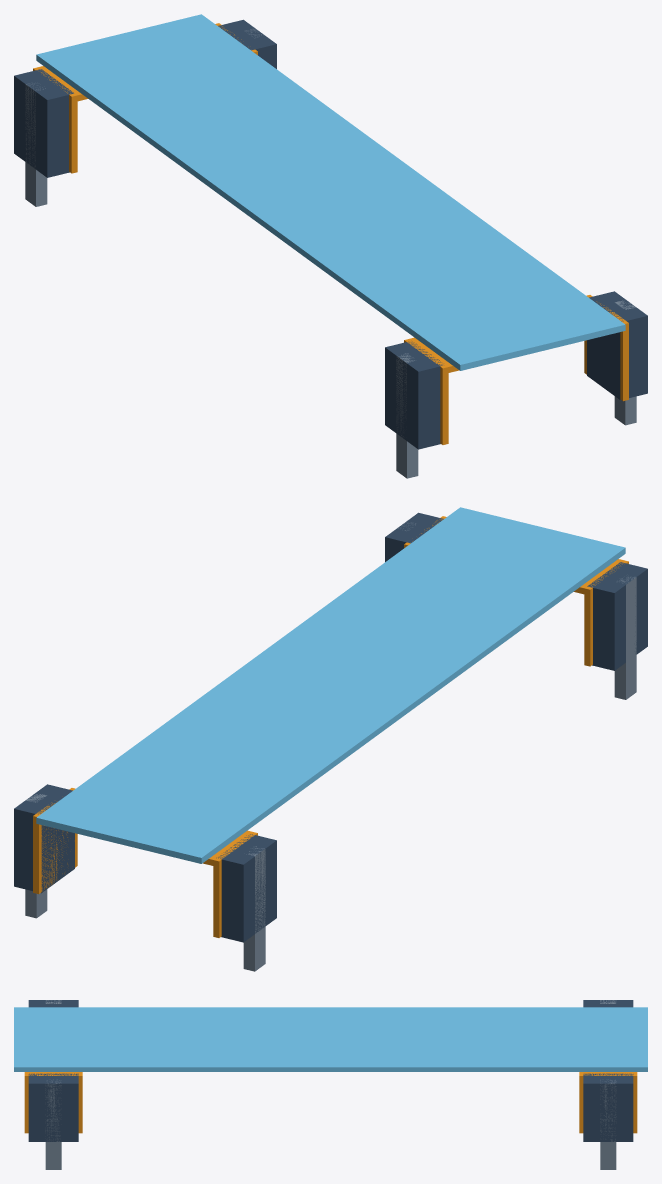
The model's file is HR-V0_receiver-guide-interface-review.glb.
The picture shows the model from 3 angles, top to bottom: view 1: azimuth 30°, elevation 25°; view 2: azimuth 150°, elevation 25°; view 3: azimuth 270°, elevation 25°; orthographic projection. The views are drawn at different scales.
Visible parts, largest first — view 1: R129-PLATEN-BLANK, TWA-01-20-CATALOG-ENVELOPE-1-1, TWA-01-20-CATALOG-ENVELOPE-1-2, TWA-01-20-CATALOG-ENVELOPE-2-1, TS-01-20-120-CATALOG-ENVELOPE-1-1, TS-01-20-120-CATALOG-ENVELOPE-1-2, TWA-01-20-CATALOG-ENVELOPE-2-2, FAB-REC-004-GUIDE-ANGLE-ENVELOPE-1-1, FAB-REC-004-GUIDE-ANGLE-ENVELOPE-1-2, FAB-REC-004-GUIDE-ANGLE-ENVELOPE-2-1, TS-01-20-120-CATALOG-ENVELOPE-2-1; view 2: R129-PLATEN-BLANK, TWA-01-20-CATALOG-ENVELOPE-1-2, TWA-01-20-CATALOG-ENVELOPE-1-1, TWA-01-20-CATALOG-ENVELOPE-2-2, TS-01-20-120-CATALOG-ENVELOPE-1-1, TS-01-20-120-CATALOG-ENVELOPE-1-2, FAB-REC-004-GUIDE-ANGLE-ENVELOPE-2-2, TWA-01-20-CATALOG-ENVELOPE-2-1, FAB-REC-004-GUIDE-ANGLE-ENVELOPE-1-2, FAB-REC-004-GUIDE-ANGLE-ENVELOPE-1-1, TS-01-20-120-CATALOG-ENVELOPE-2-2; view 3: R129-PLATEN-BLANK, TWA-01-20-CATALOG-ENVELOPE-2-2, TWA-01-20-CATALOG-ENVELOPE-2-1, TS-01-20-120-CATALOG-ENVELOPE-2-1, FAB-REC-004-GUIDE-ANGLE-ENVELOPE-2-1, FAB-REC-004-GUIDE-ANGLE-ENVELOPE-2-2, TS-01-20-120-CATALOG-ENVELOPE-2-2, TWA-01-20-CATALOG-ENVELOPE-1-2, TWA-01-20-CATALOG-ENVELOPE-1-1.
Boxes of the visible parts, left/top/right/bottom form: R129-PLATEN-BLANK: left=36, top=14, right=625, bottom=370; TWA-01-20-CATALOG-ENVELOPE-1-1: left=385, top=341, right=442, bottom=449; TWA-01-20-CATALOG-ENVELOPE-1-2: left=14, top=69, right=73, bottom=177; TWA-01-20-CATALOG-ENVELOPE-2-1: left=587, top=291, right=647, bottom=400; TS-01-20-120-CATALOG-ENVELOPE-1-1: left=396, top=353, right=418, bottom=478; TS-01-20-120-CATALOG-ENVELOPE-1-2: left=25, top=83, right=47, bottom=206; TWA-01-20-CATALOG-ENVELOPE-2-2: left=218, top=19, right=276, bottom=68; FAB-REC-004-GUIDE-ANGLE-ENVELOPE-1-1: left=404, top=337, right=458, bottom=444; FAB-REC-004-GUIDE-ANGLE-ENVELOPE-1-2: left=33, top=66, right=87, bottom=173; FAB-REC-004-GUIDE-ANGLE-ENVELOPE-2-1: left=584, top=295, right=628, bottom=401; TS-01-20-120-CATALOG-ENVELOPE-2-1: left=614, top=300, right=636, bottom=425; R129-PLATEN-BLANK: left=36, top=507, right=625, bottom=863; TWA-01-20-CATALOG-ENVELOPE-1-2: left=216, top=834, right=276, bottom=942; TWA-01-20-CATALOG-ENVELOPE-1-1: left=587, top=562, right=647, bottom=670; TWA-01-20-CATALOG-ENVELOPE-2-2: left=14, top=784, right=74, bottom=893; TS-01-20-120-CATALOG-ENVELOPE-1-1: left=614, top=577, right=636, bottom=699; TS-01-20-120-CATALOG-ENVELOPE-1-2: left=243, top=846, right=265, bottom=971; FAB-REC-004-GUIDE-ANGLE-ENVELOPE-2-2: left=33, top=788, right=77, bottom=894; TWA-01-20-CATALOG-ENVELOPE-2-1: left=385, top=512, right=443, bottom=561; FAB-REC-004-GUIDE-ANGLE-ENVELOPE-1-2: left=203, top=830, right=257, bottom=937; FAB-REC-004-GUIDE-ANGLE-ENVELOPE-1-1: left=574, top=559, right=628, bottom=666; TS-01-20-120-CATALOG-ENVELOPE-2-2: left=25, top=794, right=47, bottom=918; R129-PLATEN-BLANK: left=14, top=1007, right=647, bottom=1071; TWA-01-20-CATALOG-ENVELOPE-2-2: left=583, top=1073, right=633, bottom=1141; TWA-01-20-CATALOG-ENVELOPE-2-1: left=28, top=1073, right=78, bottom=1141; TS-01-20-120-CATALOG-ENVELOPE-2-1: left=45, top=1079, right=61, bottom=1169; FAB-REC-004-GUIDE-ANGLE-ENVELOPE-2-1: left=24, top=1072, right=82, bottom=1133; FAB-REC-004-GUIDE-ANGLE-ENVELOPE-2-2: left=579, top=1072, right=637, bottom=1133; TS-01-20-120-CATALOG-ENVELOPE-2-2: left=600, top=1079, right=616, bottom=1169; TWA-01-20-CATALOG-ENVELOPE-1-2: left=583, top=1000, right=633, bottom=1007; TWA-01-20-CATALOG-ENVELOPE-1-1: left=28, top=1000, right=78, bottom=1007.
Bounding box in the file's own units: 250 × 126 × 800.
